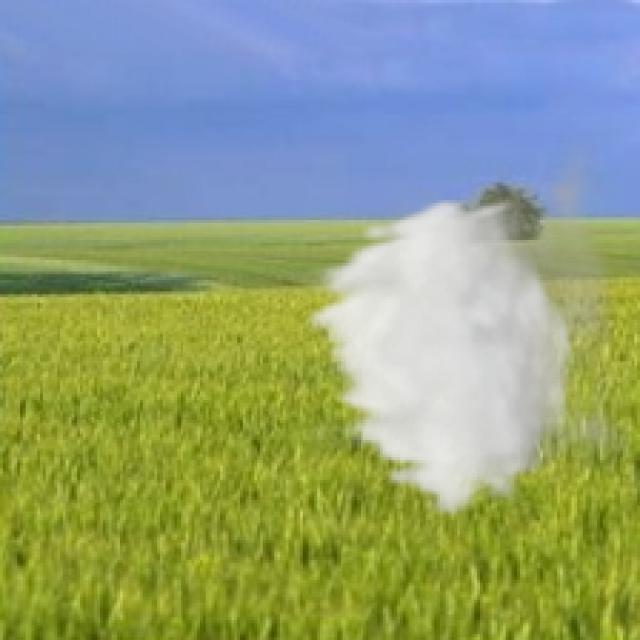smoke: (297, 128, 637, 523)
